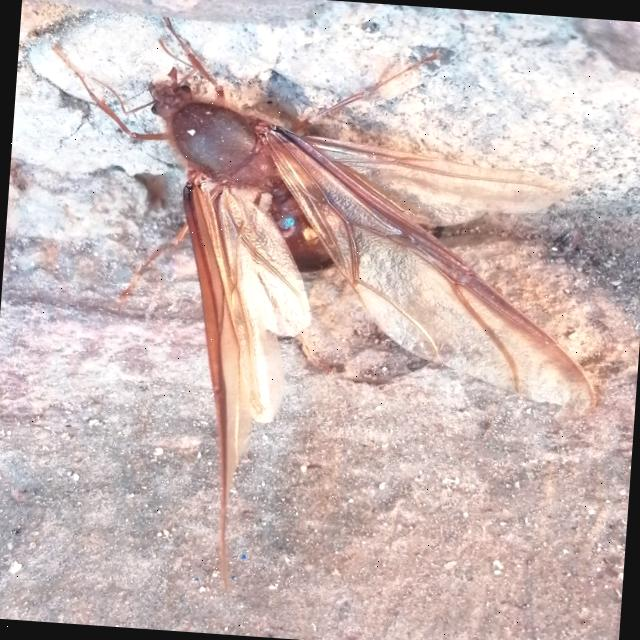Alive-Male-Alate: (13, 9, 621, 618)
